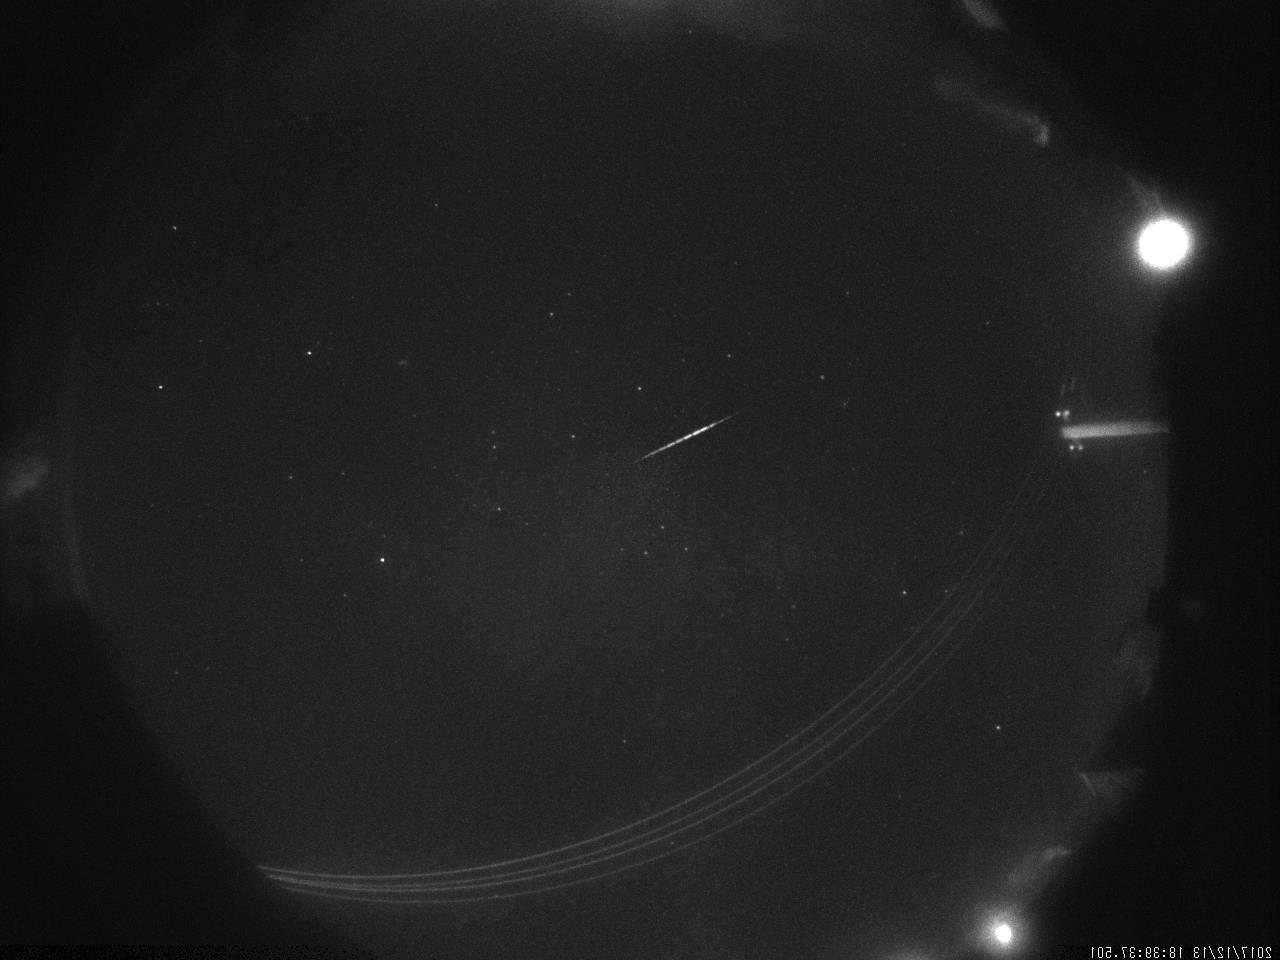meteor: (619, 397, 759, 471)
